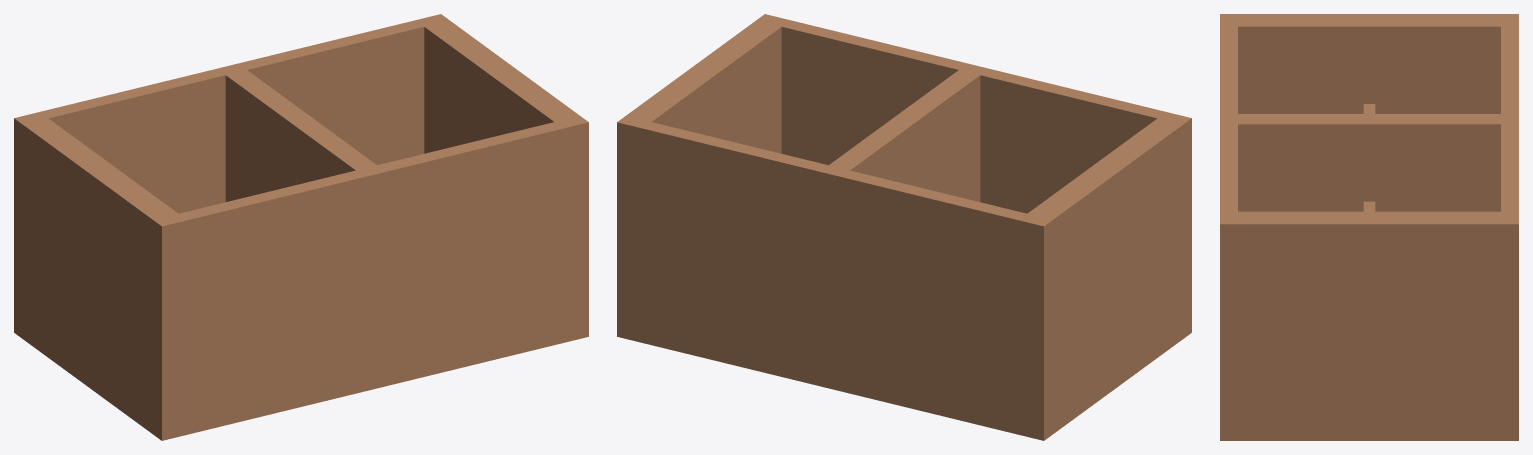
File: desk-organizer.glb
The picture shows the model from 3 angles, left to right: view 1: azimuth 30°, elevation 25°; view 2: azimuth 150°, elevation 25°; view 3: azimuth 270°, elevation 25°; orthographic projection.
Visible parts, largest first — view 1: desk-organizer; view 2: desk-organizer; view 3: desk-organizer.
Boxes of the visible parts, x1,y1,x2,y2 form: desk-organizer: (14, 14, 588, 440); desk-organizer: (617, 14, 1191, 440); desk-organizer: (1220, 14, 1518, 440).
Bounding box in the file's own units: 25 × 12 × 15.
